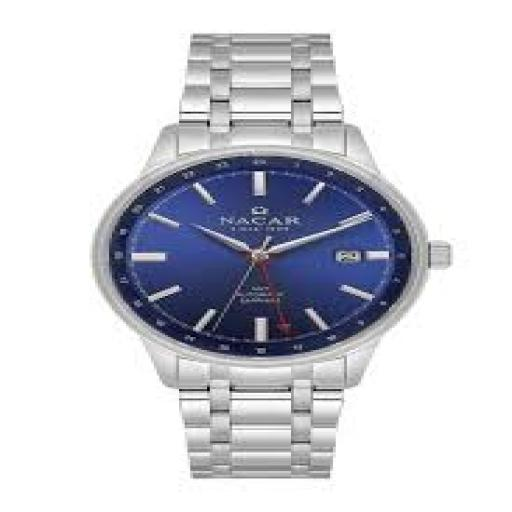KolSaati: (38, 14, 490, 504)
